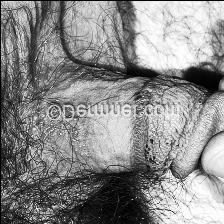Toxin: (18, 112, 52, 142), (65, 118, 87, 160), (143, 136, 155, 170)
